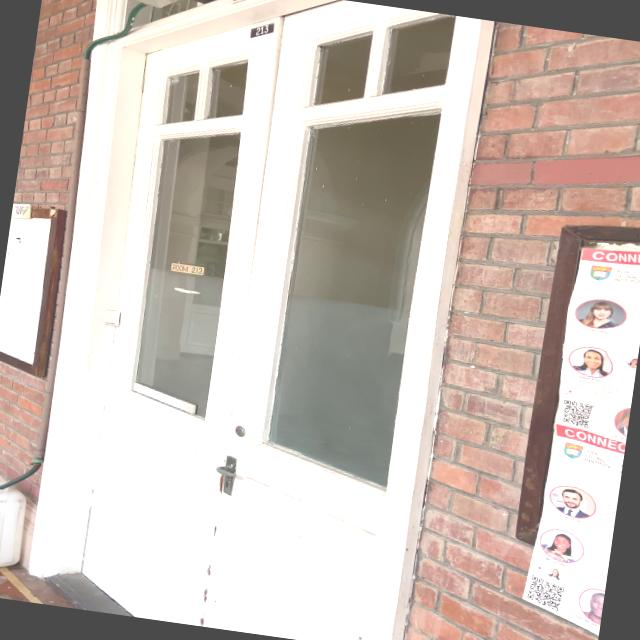room213: (250, 18, 275, 42)
room213Window: (165, 258, 208, 278)
